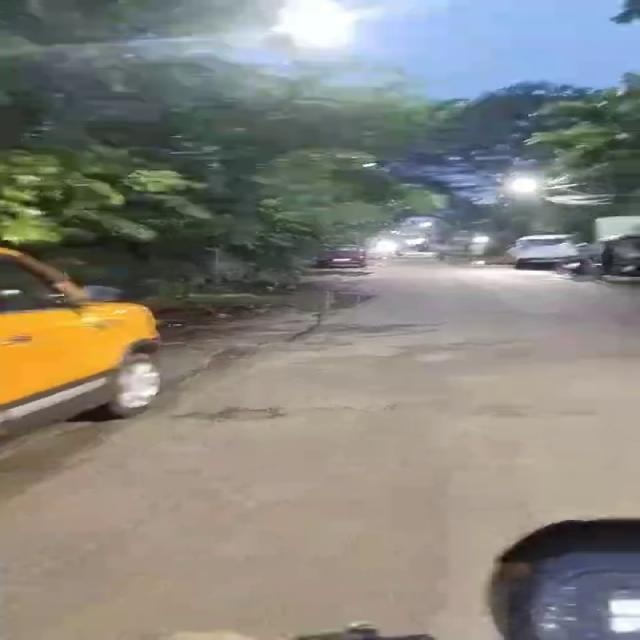pothole: (212, 398, 298, 425)
